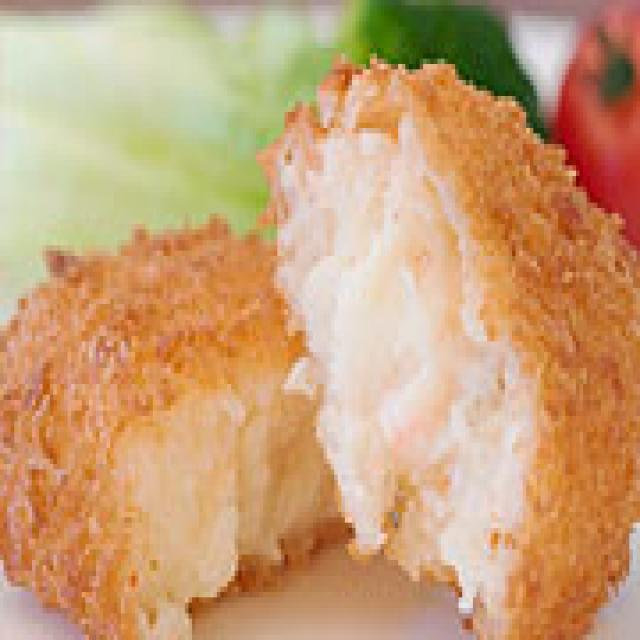炸货点心: (0, 32, 640, 640)
